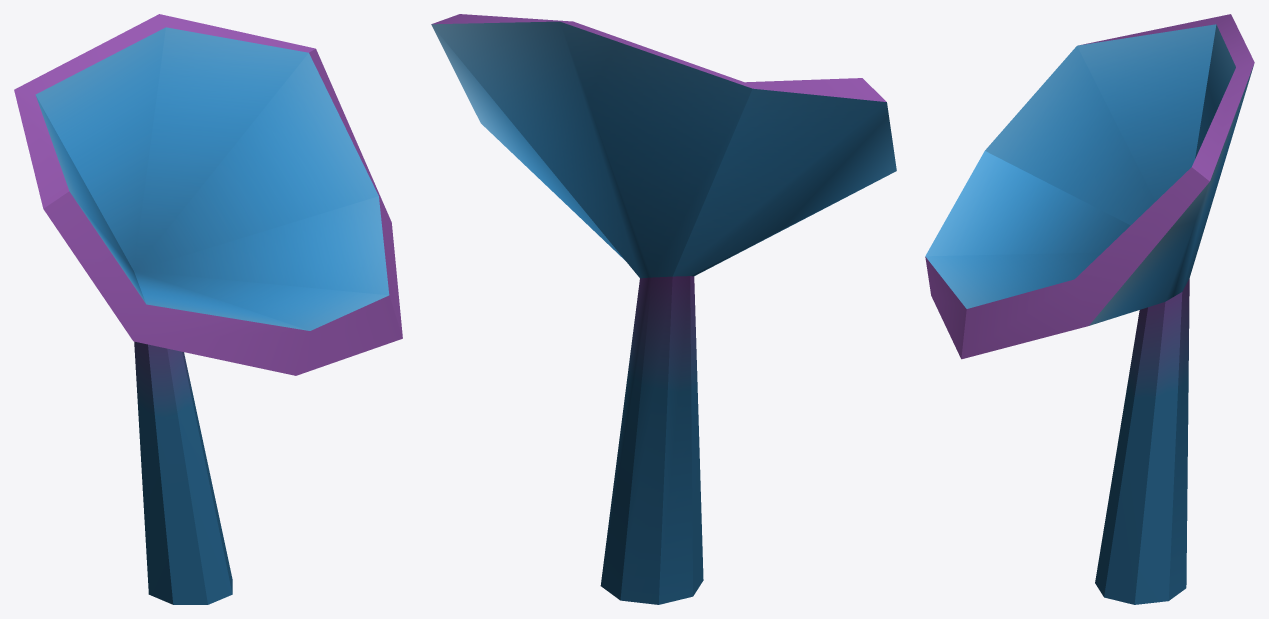
The model's file is Mushroom_B_2.fbx.
3 renders of one model, left to right at view 1: azimuth 30°, elevation 25°; view 2: azimuth 150°, elevation 25°; view 3: azimuth 270°, elevation 25°, orthographic. The views are drawn at different scales.
Parts seen in each view (by area): view 1: Mushroom_B_2; view 2: Mushroom_B_2; view 3: Mushroom_B_2.
Boxes of the visible parts, <box> form: Mushroom_B_2: <box>14,14,402,604</box>; Mushroom_B_2: <box>431,14,896,604</box>; Mushroom_B_2: <box>925,14,1254,604</box>.
Size of the model in its own units: 12.41 by 17.73 by 9.89.
